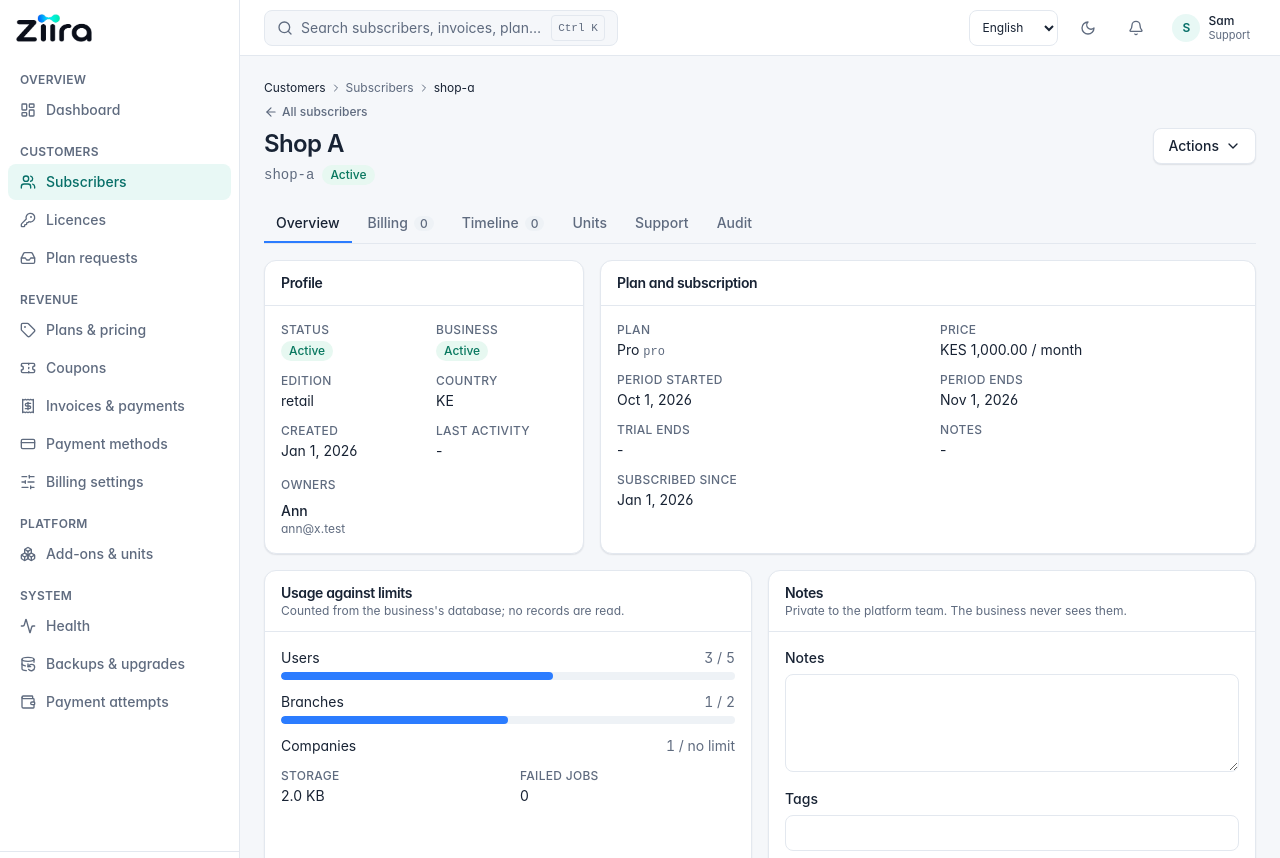
Scenario: subscribers › hides the actions a support role may not use
Click the button "Actions".
click(1205, 146)  # box [1153,128,1256,164]
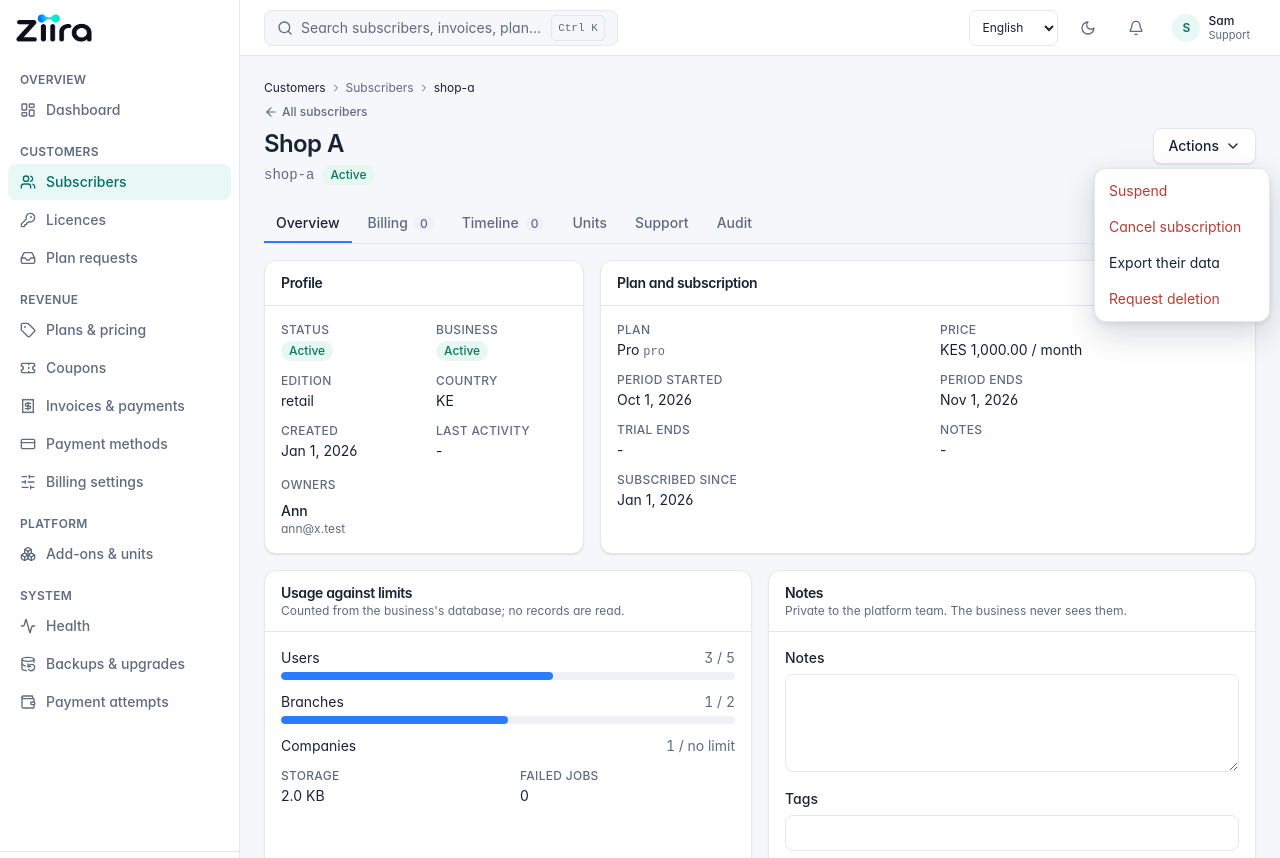
Result: the menu item "Suspend" is shown at [1099,173,1265,209]
